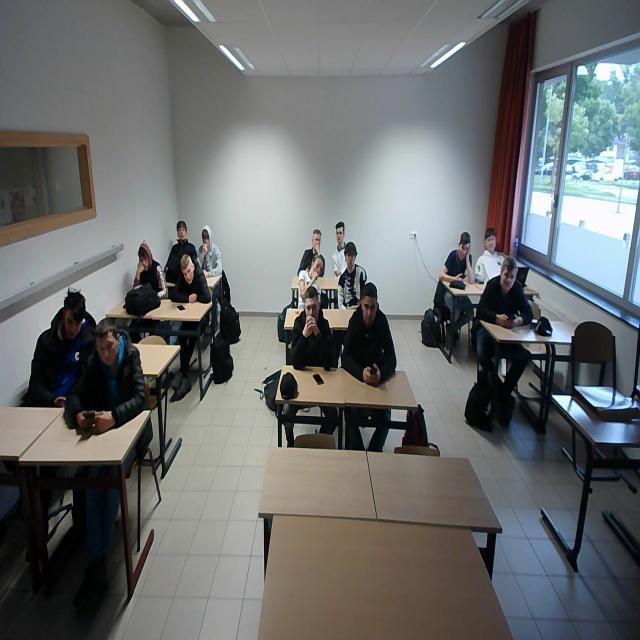Looking away: (310, 256, 324, 278), (312, 234, 322, 252), (336, 227, 344, 244)
Looking forward: (305, 298, 320, 324), (343, 252, 357, 268), (182, 266, 194, 284), (137, 256, 150, 272), (485, 236, 497, 252), (176, 226, 186, 241), (202, 236, 210, 252)
Phone use: (69, 314, 150, 442), (26, 280, 90, 404), (342, 282, 400, 389), (476, 256, 538, 343), (438, 230, 471, 291)
